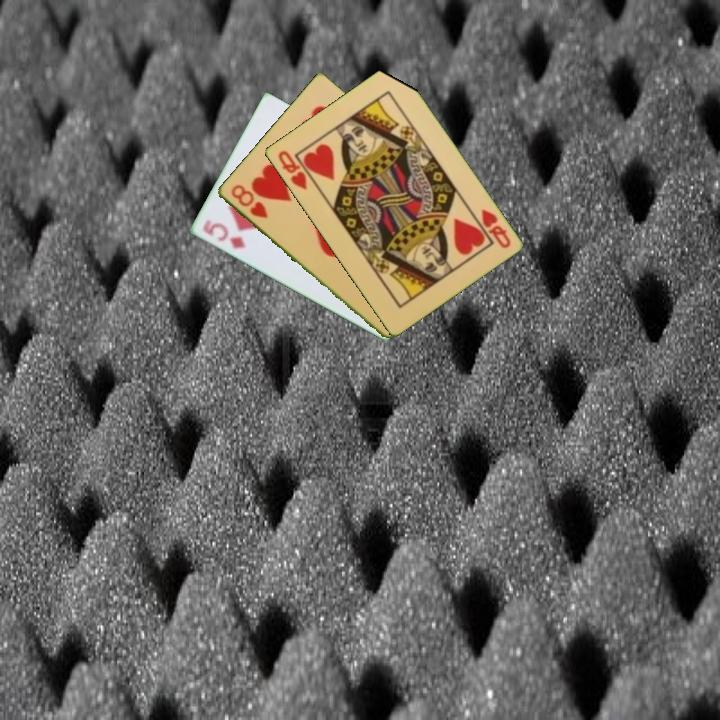5d: (199, 216, 248, 252)
8h: (227, 181, 270, 221)
Qh: (274, 147, 318, 193), (477, 205, 513, 251)
